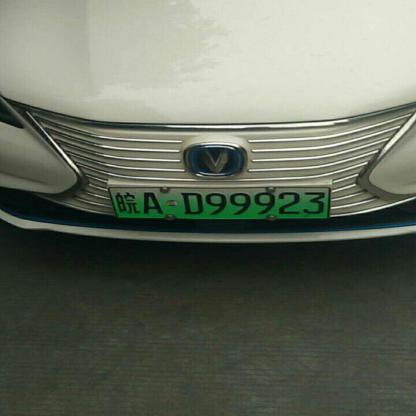lp: (108, 185, 330, 219)
